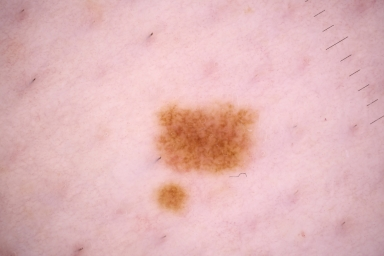nevus: (158, 106, 256, 175), (156, 186, 189, 215)
